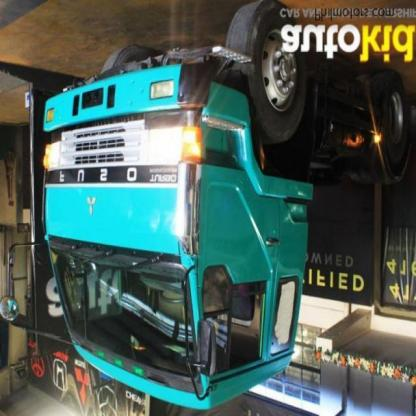truck: (43, 2, 416, 412)
